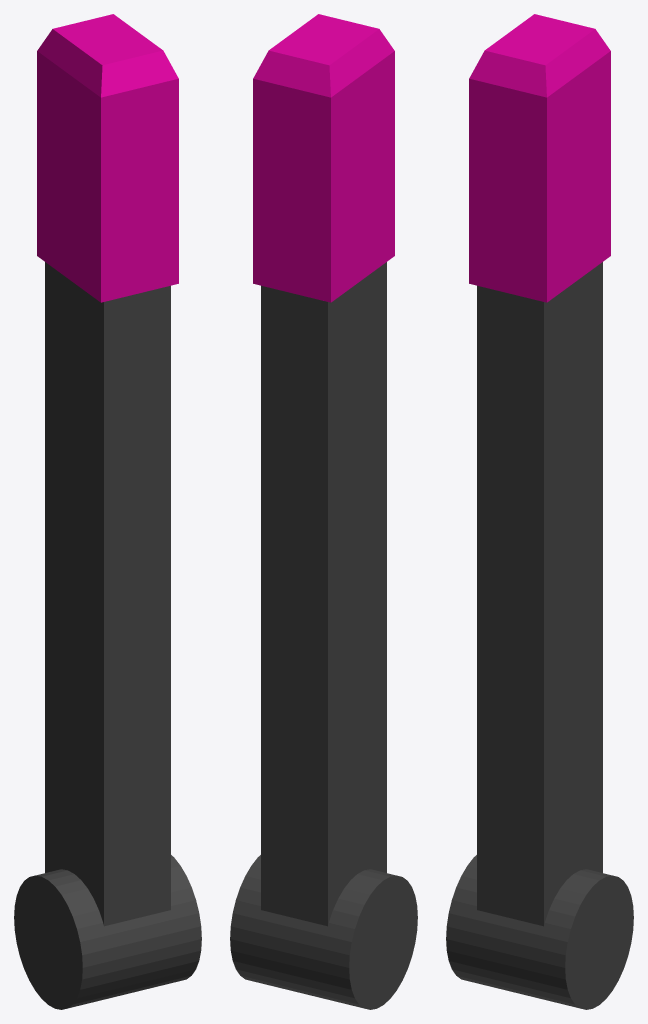
The model's file is PinkLeverWOB.glb.
3 views of the same model, side by side, from view 1: azimuth 30°, elevation 25°; view 2: azimuth 150°, elevation 25°; view 3: azimuth 330°, elevation 25° (orthographic).
Parts seen in each view (by area): view 1: Handle, Top; view 2: Handle, Top; view 3: Handle, Top.
Boxes of the visible parts, left/top/right/bottom form: Handle: left=14, top=262, right=201, bottom=1009; Top: left=37, top=14, right=178, bottom=302; Handle: left=230, top=262, right=417, bottom=1009; Top: left=253, top=14, right=394, bottom=302; Handle: left=446, top=262, right=633, bottom=1009; Top: left=469, top=14, right=610, bottom=302.
Size of the model in its own units: 0.1393 by 1.06 by 0.1393.
